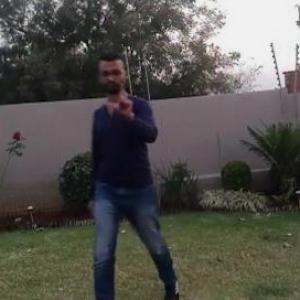land_hand: (106, 78, 142, 117)
